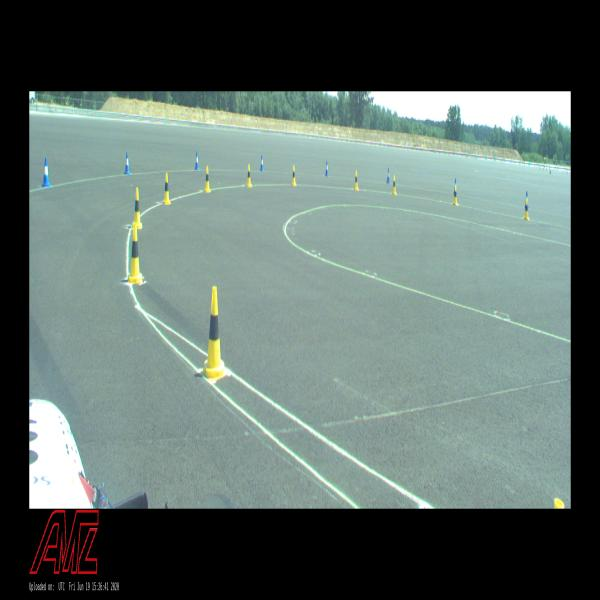blue_cone: (42, 158, 50, 186), (124, 152, 130, 173), (195, 152, 199, 170), (260, 155, 264, 171), (524, 192, 528, 208), (325, 160, 328, 176), (454, 178, 457, 194), (387, 168, 390, 183)
yellow_cone: (200, 287, 228, 381), (128, 223, 143, 283), (133, 188, 142, 228), (164, 173, 170, 204), (205, 166, 210, 192), (524, 200, 529, 219), (247, 164, 251, 186), (292, 166, 296, 185), (453, 186, 457, 205), (354, 171, 358, 190), (392, 176, 396, 194)
